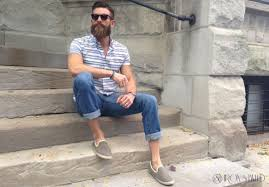shoe: (146, 158, 179, 186), (92, 136, 114, 161)
